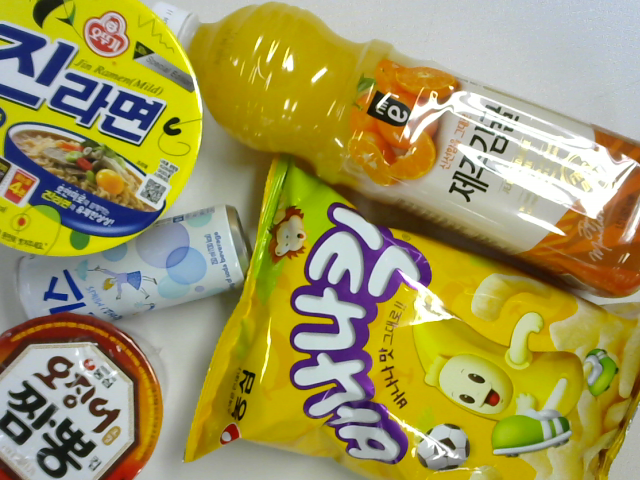Banana_Kick: (185, 156, 640, 474)
Jeju_Tangerine_1.5L: (183, 4, 640, 307)
Jinlamyeon_Mild_Taste_Large_Cup: (1, 1, 197, 252)
Milkies_250ml: (13, 206, 245, 334)
Ojjam: (3, 318, 166, 480)
